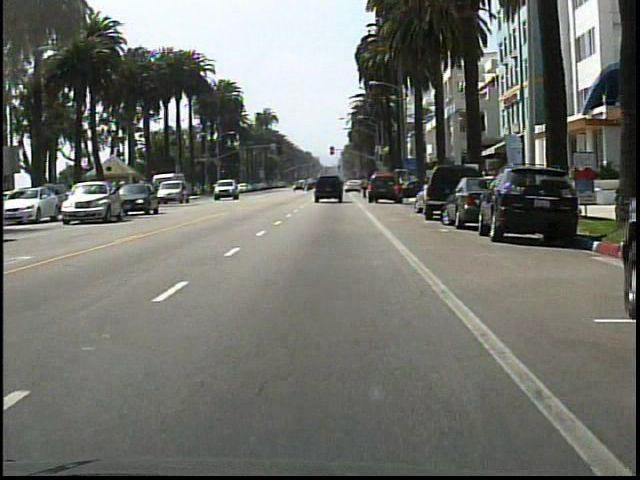person: (359, 173, 371, 202)
